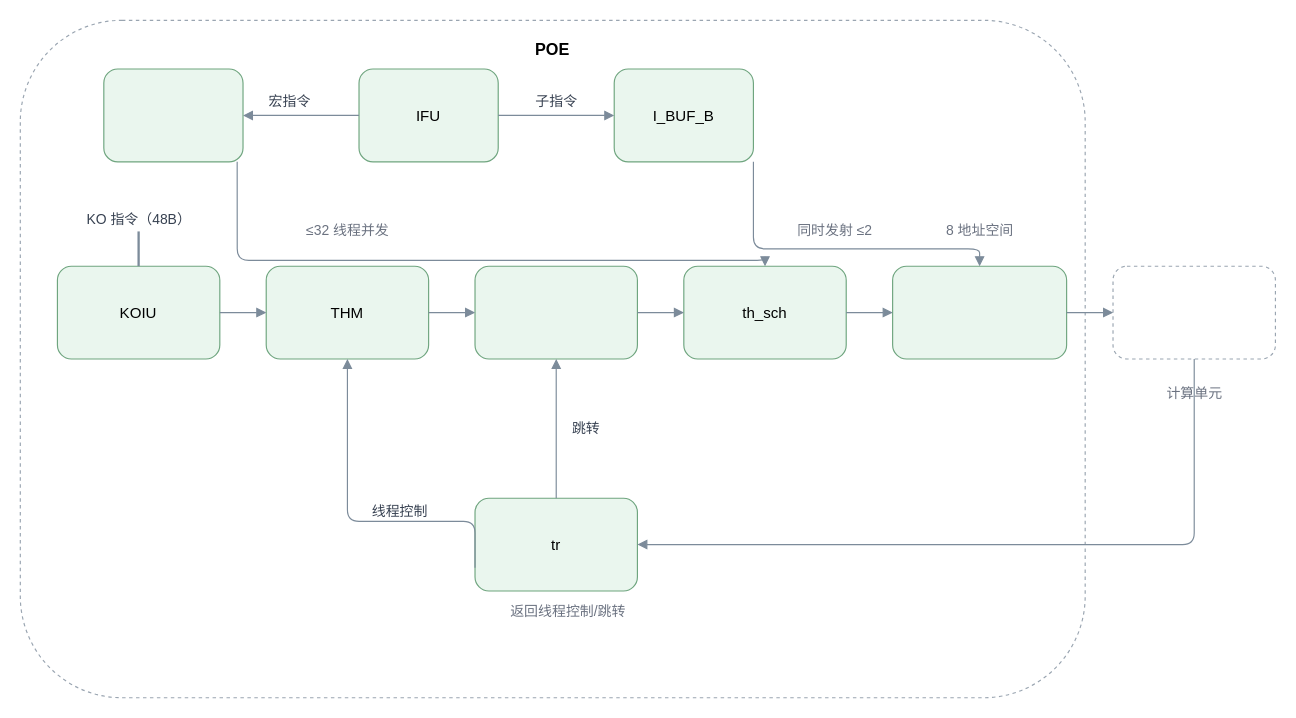
Some shapes in this 1296 by 718 pixel diagram are drawn without their labels. Here are the shapes that lost their labels. From the top down, the centre of each, then its label:
At point 173,115: "I_BUF_A".
At point 555,312: "ts_ctrl".
At point 979,312: "burst_sch".
At point 1193,312: "EU".
